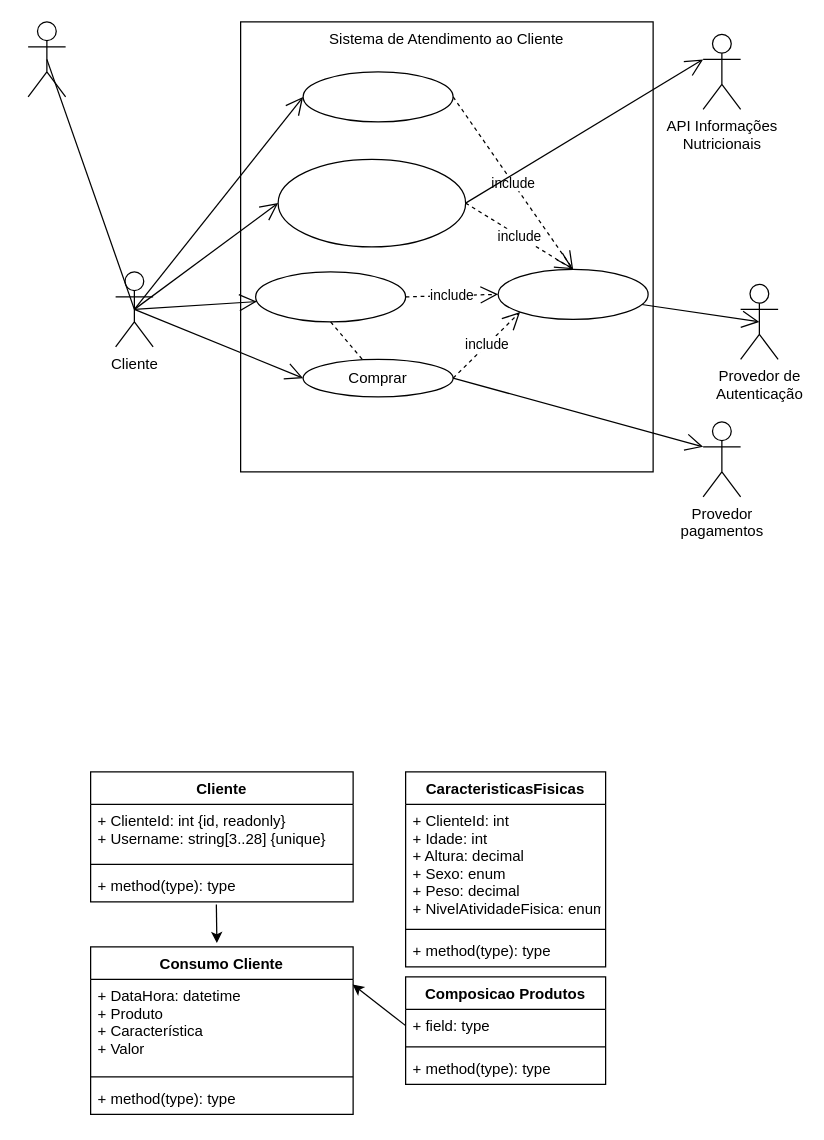
This 824x1140 diagram has some shape labels left out. The centre of each missing label's shape, as x and y in pixels:
Autenticar Cliente: point 572,293
Configurar Fornecimento: point 330,296
Registrar consumo: point 377,96
Usuário: point 46,59
Visualizar Estatísticas de Uso e Recomendações de consumo: point 371,202
